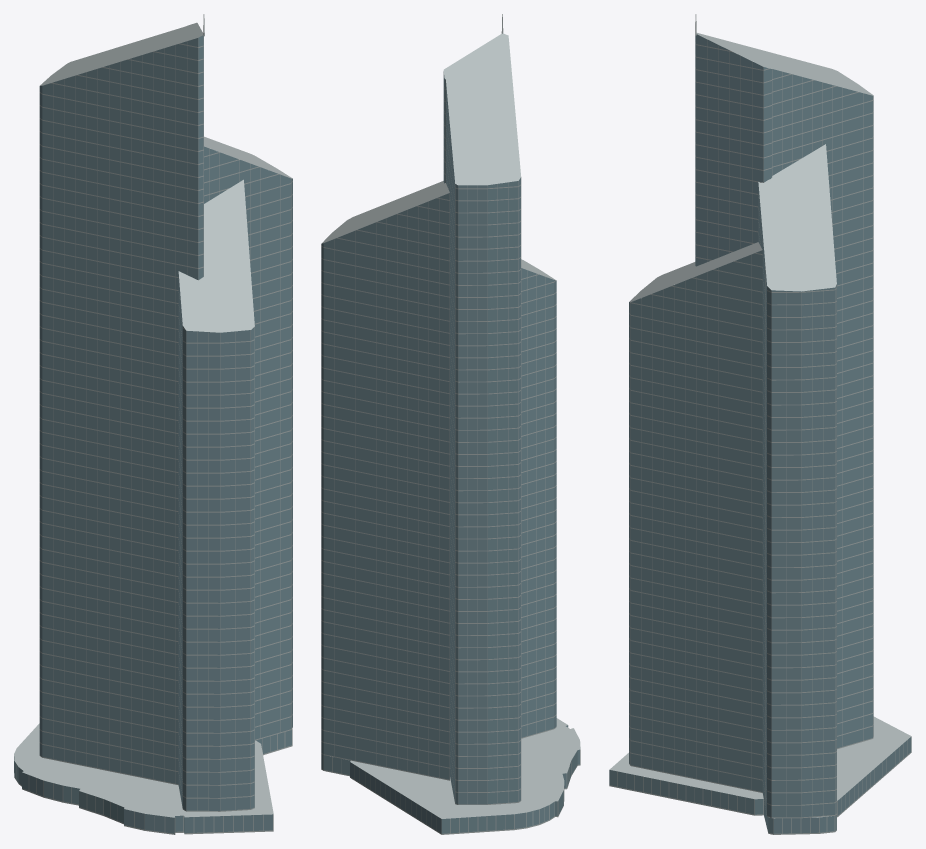
File: tour-first-near.glb
The picture shows the model from 3 angles, left to right: view 1: azimuth 30°, elevation 25°; view 2: azimuth 150°, elevation 25°; view 3: azimuth 270°, elevation 25°; orthographic projection. The views are drawn at different scales.
Visible parts, largest first — view 1: tour-first-0-glass, tour-first-0-frame, tour-first-0-roof; view 2: tour-first-0-glass, tour-first-0-frame, tour-first-0-roof; view 3: tour-first-0-glass, tour-first-0-frame, tour-first-0-roof.
Boxes of the visible parts, x1=… form: tour-first-0-glass: x1=14, y1=35, x2=292, y2=833; tour-first-0-frame: x1=14, y1=36, x2=292, y2=834; tour-first-0-roof: x1=14, y1=14, x2=292, y2=817; tour-first-0-glass: x1=321, y1=71, x2=579, y2=833; tour-first-0-frame: x1=321, y1=73, x2=580, y2=834; tour-first-0-roof: x1=322, y1=14, x2=580, y2=818; tour-first-0-glass: x1=609, y1=34, x2=911, y2=833; tour-first-0-frame: x1=609, y1=39, x2=911, y2=834; tour-first-0-roof: x1=609, y1=14, x2=911, y2=818.
Bounding box in the file's own units: 76.33 × 231 × 83.22.
